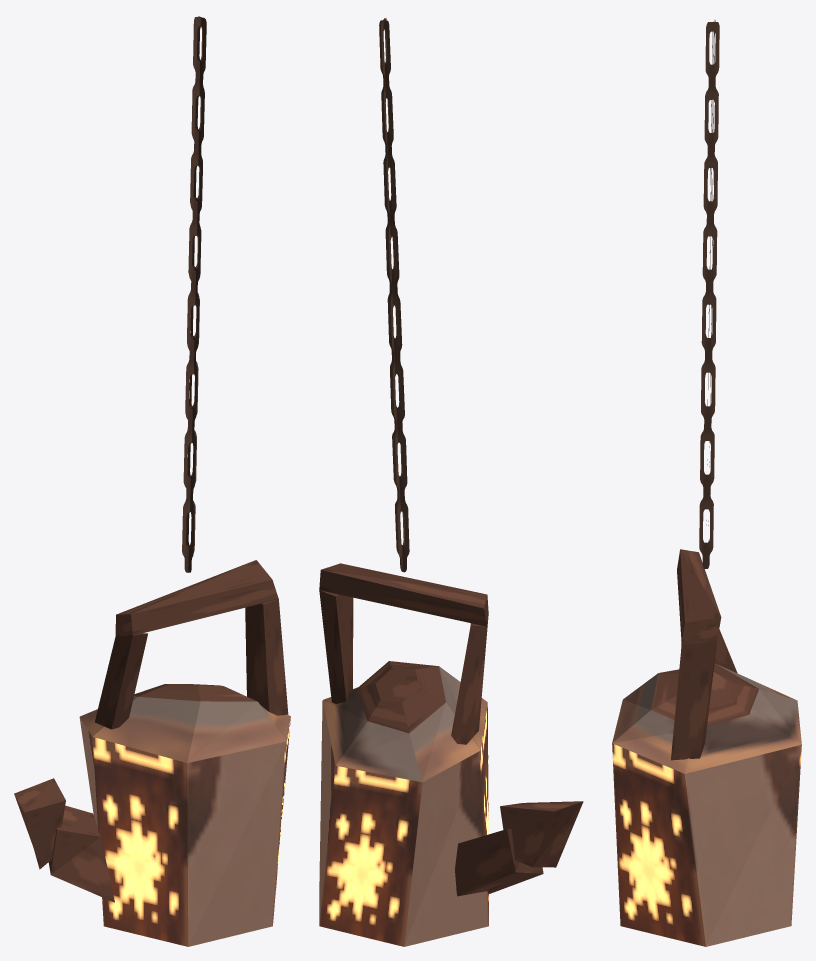
File: SM_TeapotLantern.fbx
The picture shows the model from 3 angles, left to right: view 1: azimuth 30°, elevation 25°; view 2: azimuth 150°, elevation 25°; view 3: azimuth 270°, elevation 25°; orthographic projection.
Visible parts, largest first — view 1: TeapotLantern_Visual, TeapotLantern_Chain; view 2: TeapotLantern_Visual, TeapotLantern_Chain; view 3: TeapotLantern_Visual, TeapotLantern_Chain.
Part boxes in pixels (x1,y1,x2,y2): TeapotLantern_Visual: (14, 560, 290, 946); TeapotLantern_Chain: (182, 16, 206, 572); TeapotLantern_Visual: (319, 563, 583, 946); TeapotLantern_Chain: (379, 18, 409, 572); TeapotLantern_Visual: (612, 549, 801, 946); TeapotLantern_Chain: (699, 20, 719, 568).
Bounding box in the file's own units: 0.2649 × 0.8493 × 0.1634.
